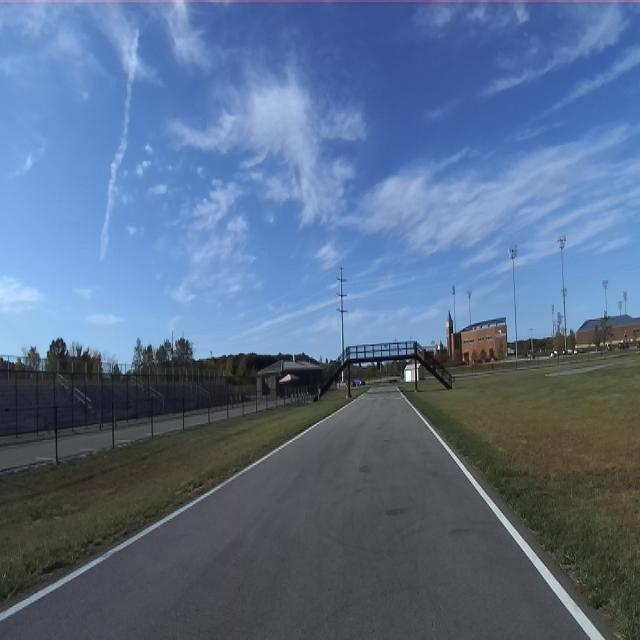white-line: (0, 401, 354, 621), (401, 392, 604, 639)
